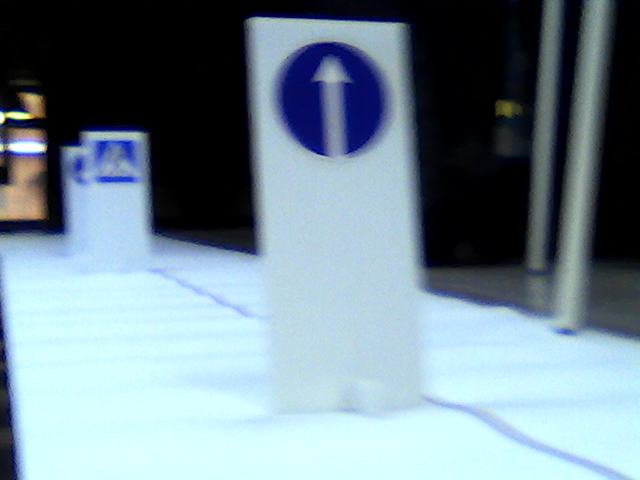forw: (277, 39, 393, 167)
pesh: (93, 139, 143, 186)
